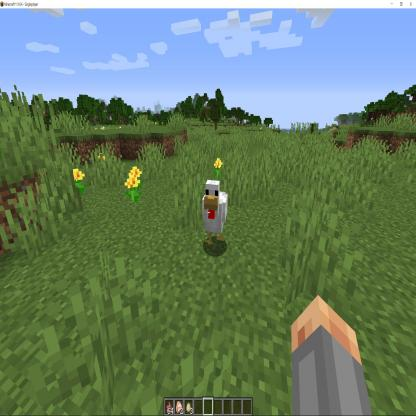minecraft-pigs: (200, 173, 232, 257)
